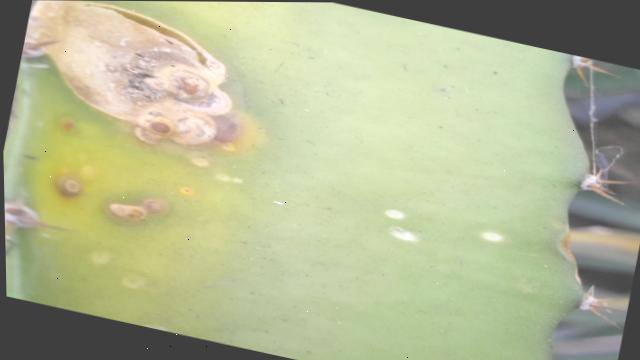stemcanker: (100, 180, 202, 232), (54, 172, 85, 200)
